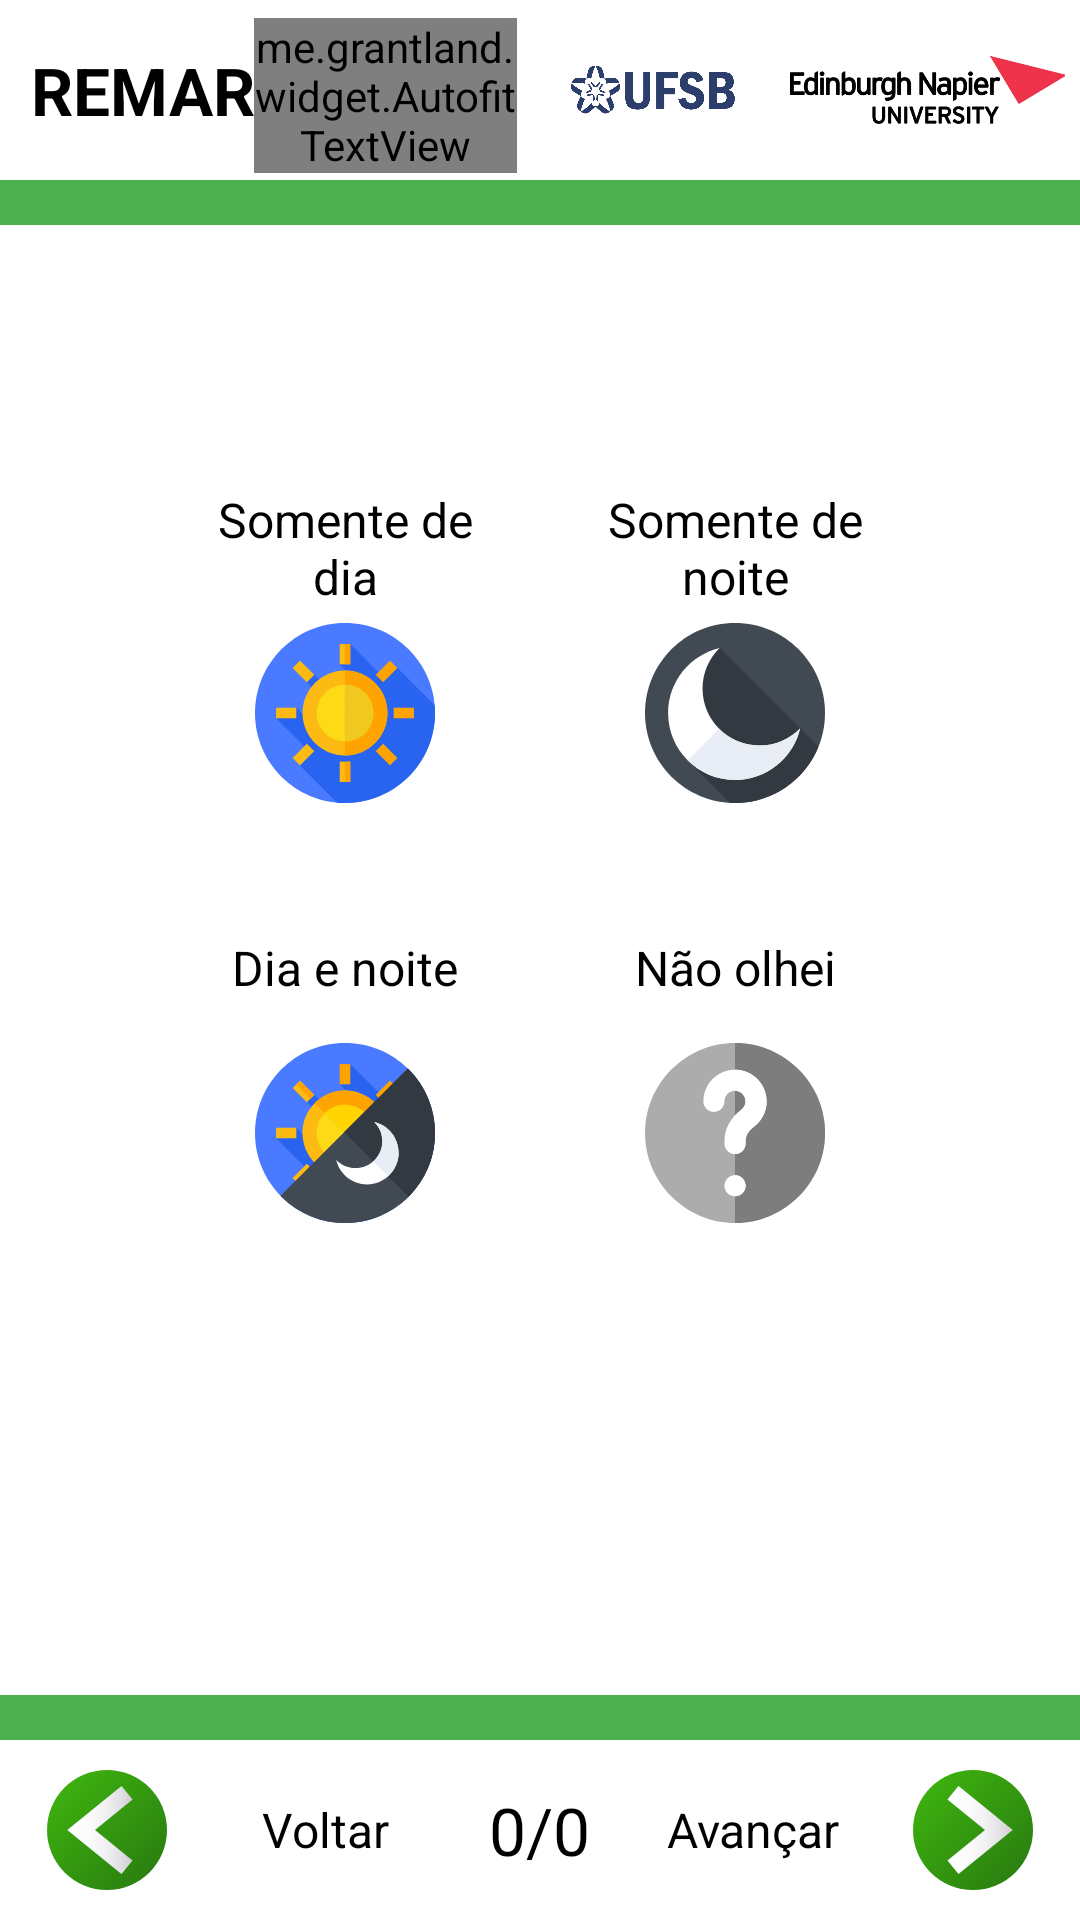

Screen size 1080px×1920px. Icon name, then its center in pixels as (x,y):
back state: (107,1830)
next state: (973,1830)
question: (735,1133)
